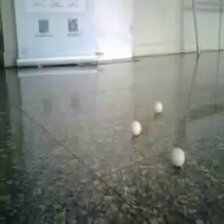tennis: (173, 95, 191, 121), (110, 69, 123, 87), (48, 57, 60, 76), (125, 52, 135, 68)
